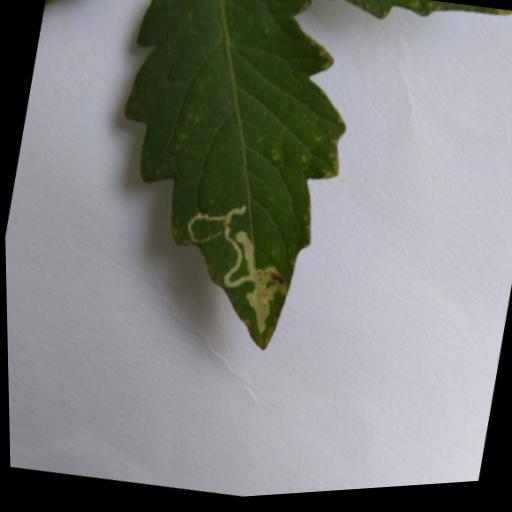Leaf_Miner: (75, 0, 376, 374)
